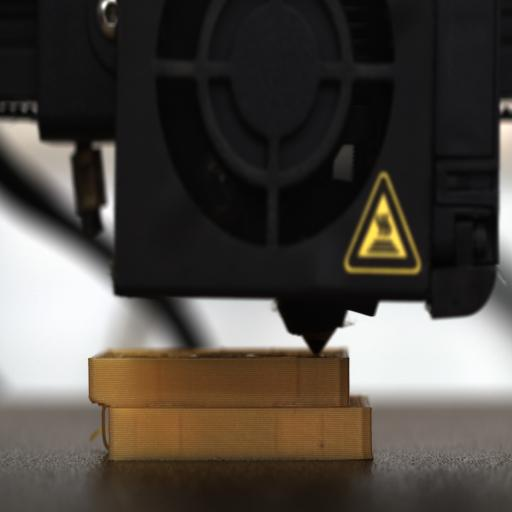layer_shift: (92, 395, 370, 417)
